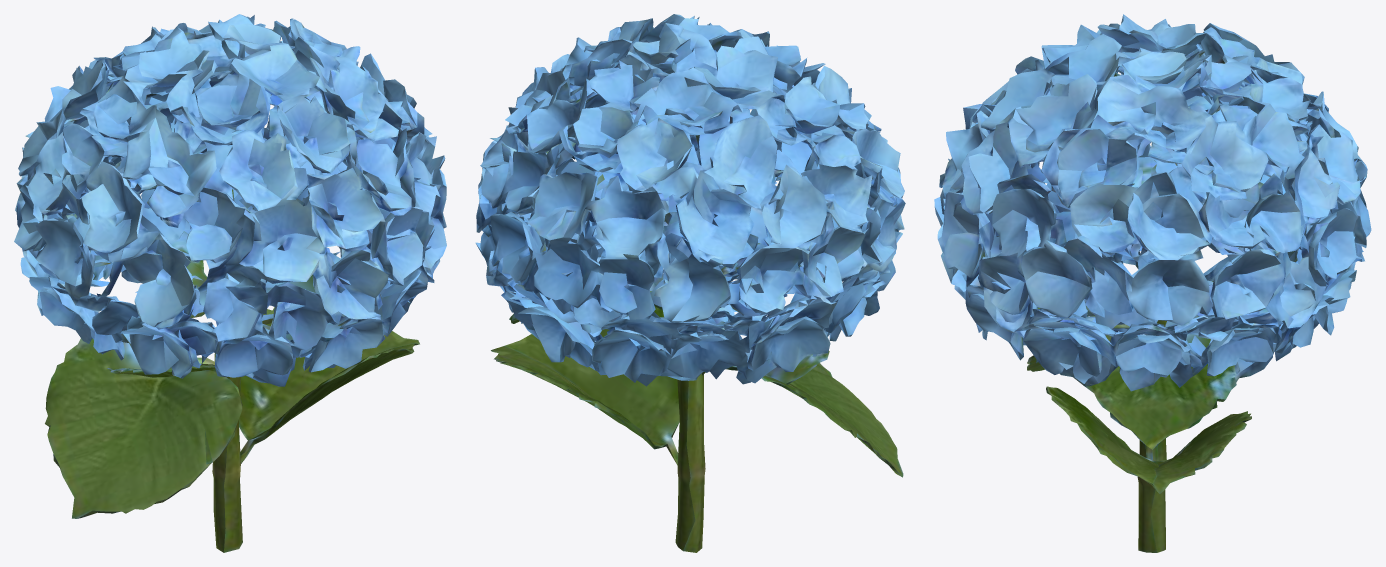
Rendered from lux-hydrangea.glb.
3 renders of one model, left to right at view 1: azimuth 30°, elevation 25°; view 2: azimuth 150°, elevation 25°; view 3: azimuth 270°, elevation 25°, orthographic.
Parts seen in each view (by area): view 1: geometry_0; view 2: geometry_0; view 3: geometry_0.
Boxes of the visible parts, x1=… form: geometry_0: x1=14, y1=14, x2=446, y2=552; geometry_0: x1=475, y1=14, x2=905, y2=552; geometry_0: x1=934, y1=14, x2=1371, y2=552.
Size of the model in its own units: 0.3598 by 0.45 by 0.3509.
1 material, 1 textured.
